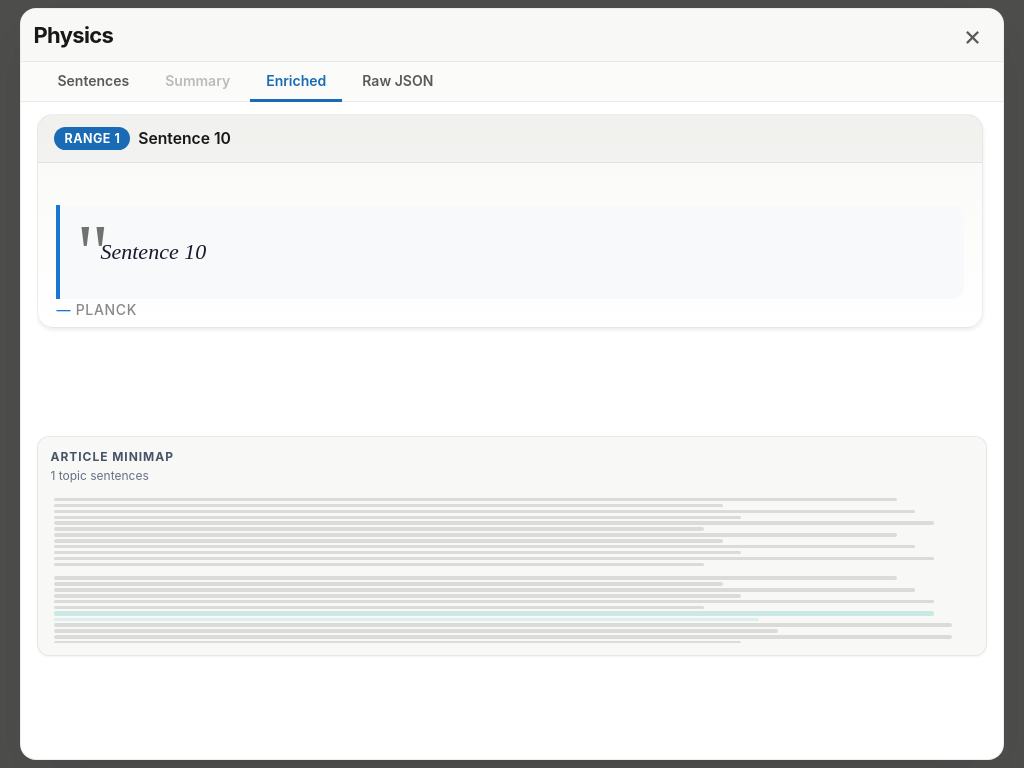
it: TopicSentencesModal markup resolution › switches to sentences and reveals context when a minimap click targets a hidden sentence
Click the 1st button named "Scroll to sentence 7": (512, 578) [54,576,970,580]
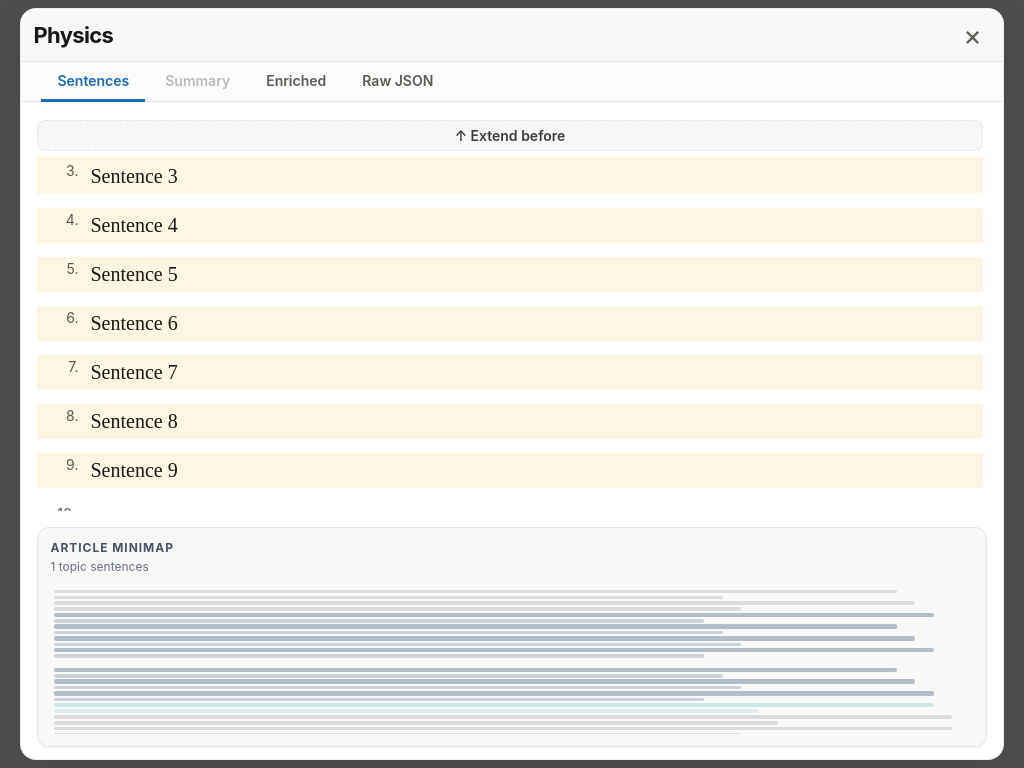
Expected: the text "7." is shown, [68,358,78,375]
Expected: the text "Sentence 7" is shown, [90,355,178,390]
